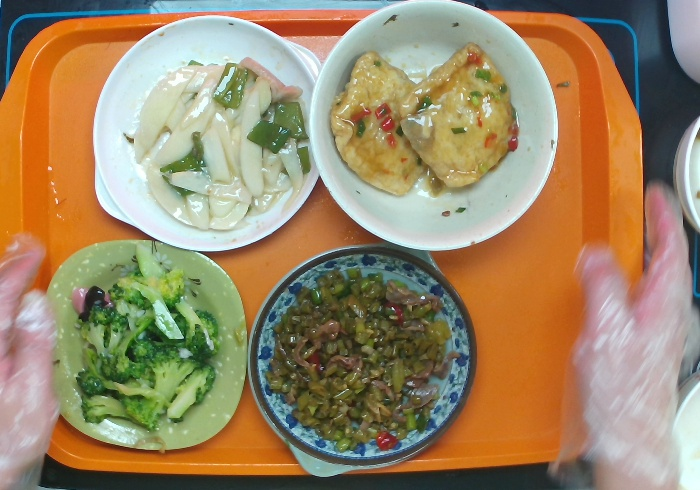NLDX-Bai_Se_Shuang_Er_Die: (91, 13, 327, 256)
NLDX-Bai_Se_Yuan_Wan: (307, 1, 560, 254)
NLDX-Lv_Hua_Fang_Die: (40, 236, 248, 452)
NLDX-Qing_Hua_Shuang_Er_Die: (244, 238, 481, 482)
